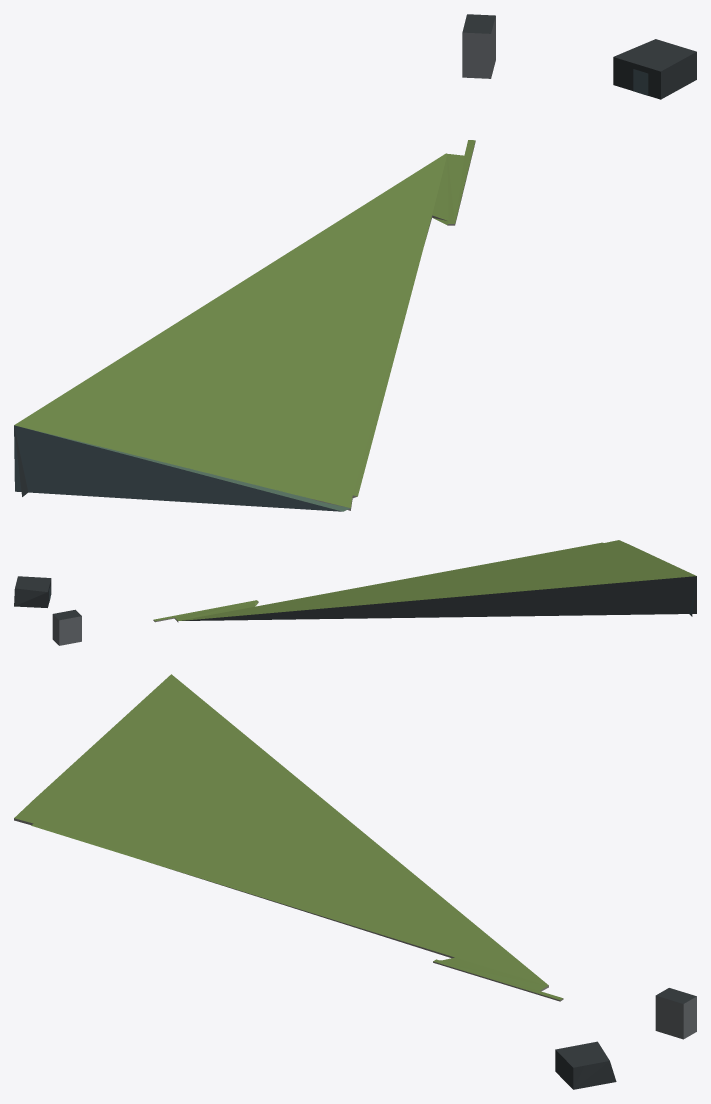
File: albert-heijn-museumplein.lod2.glb
3 views of the same model, one above another, from view 1: azimuth 30°, elevation 25°; view 2: azimuth 150°, elevation 25°; view 3: azimuth 270°, elevation 25° (orthographic). The views are drawn at different scales.
Visible parts, largest first — view 1: lod2; view 2: lod2; view 3: lod2.
Boxes of the visible parts, bbox=[...] form: lod2: bbox=[14, 14, 696, 511]; lod2: bbox=[14, 540, 696, 645]; lod2: bbox=[14, 674, 696, 1089].
Size of the model in its own units: 105 by 7.5 by 83.77.
